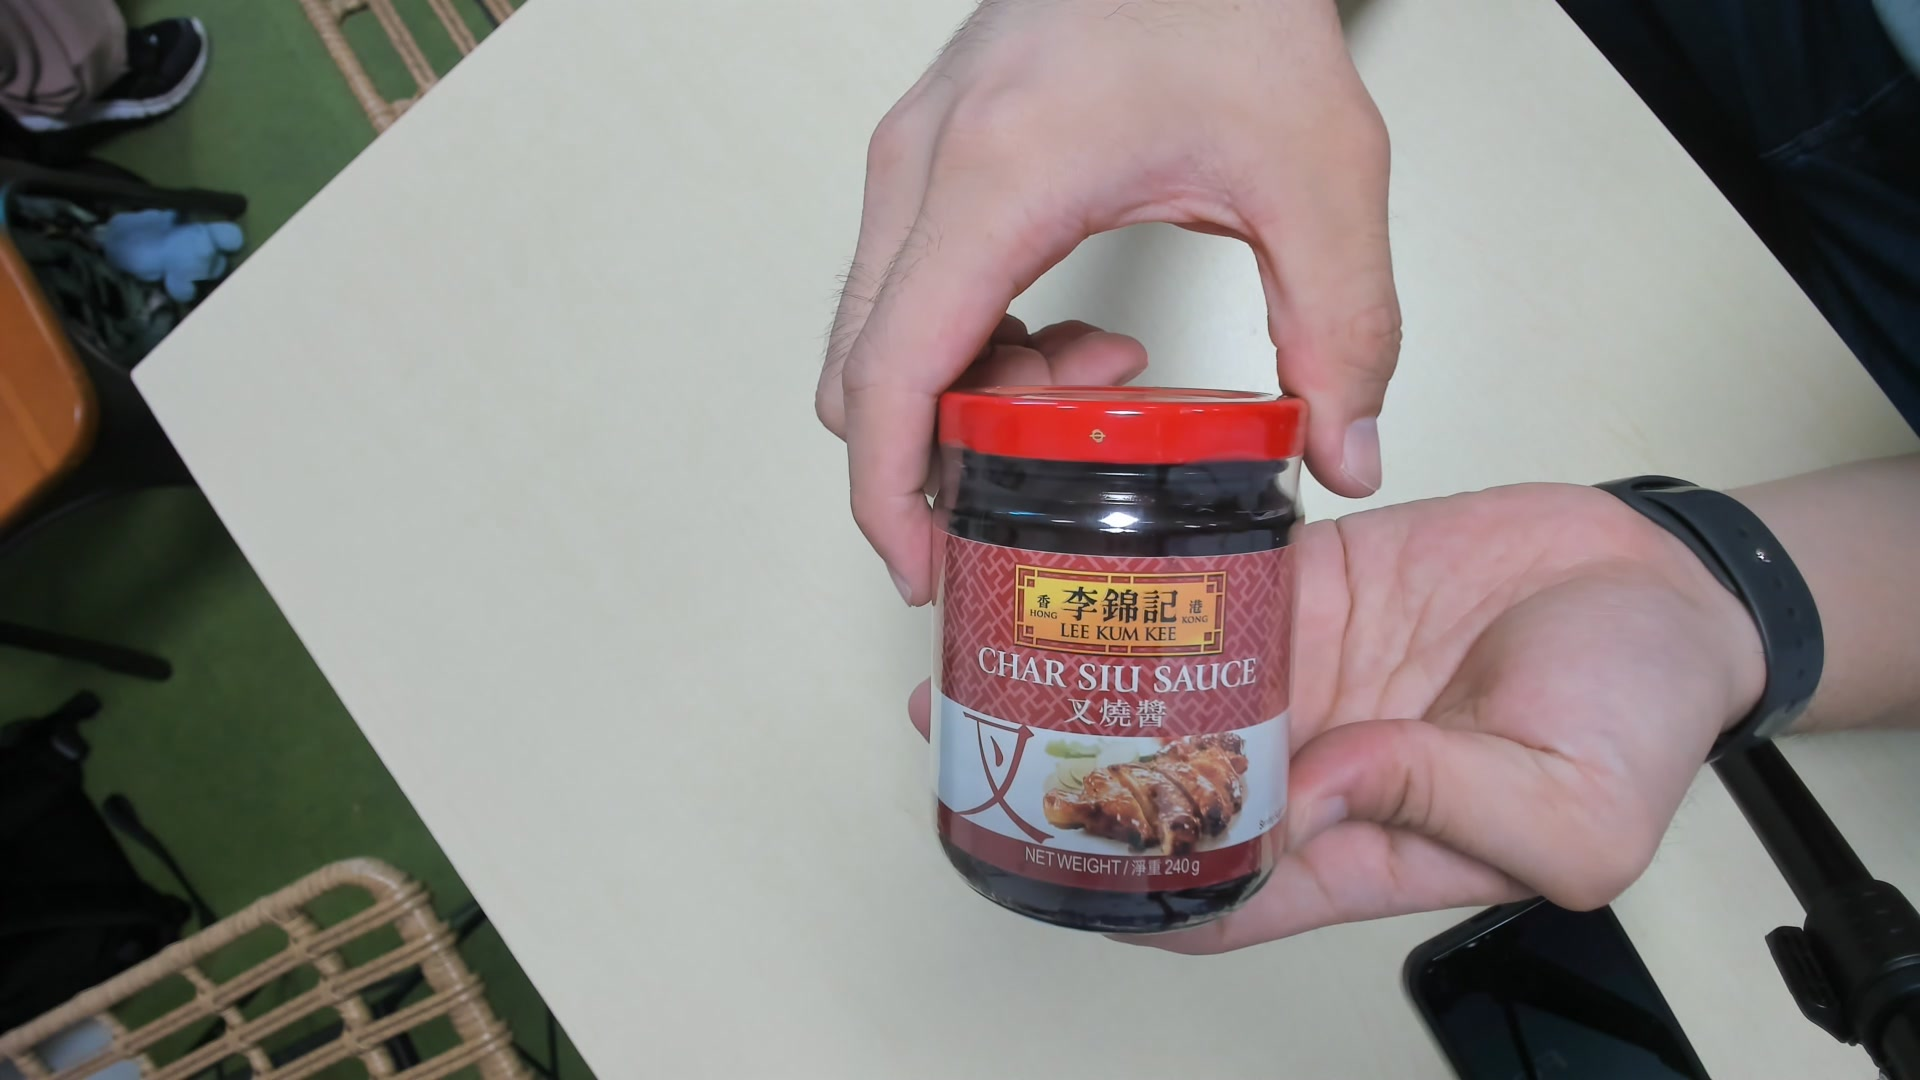OtherSauceDressing_200-299g_NonHalal_NonHealthy: (930, 382, 1292, 934)
